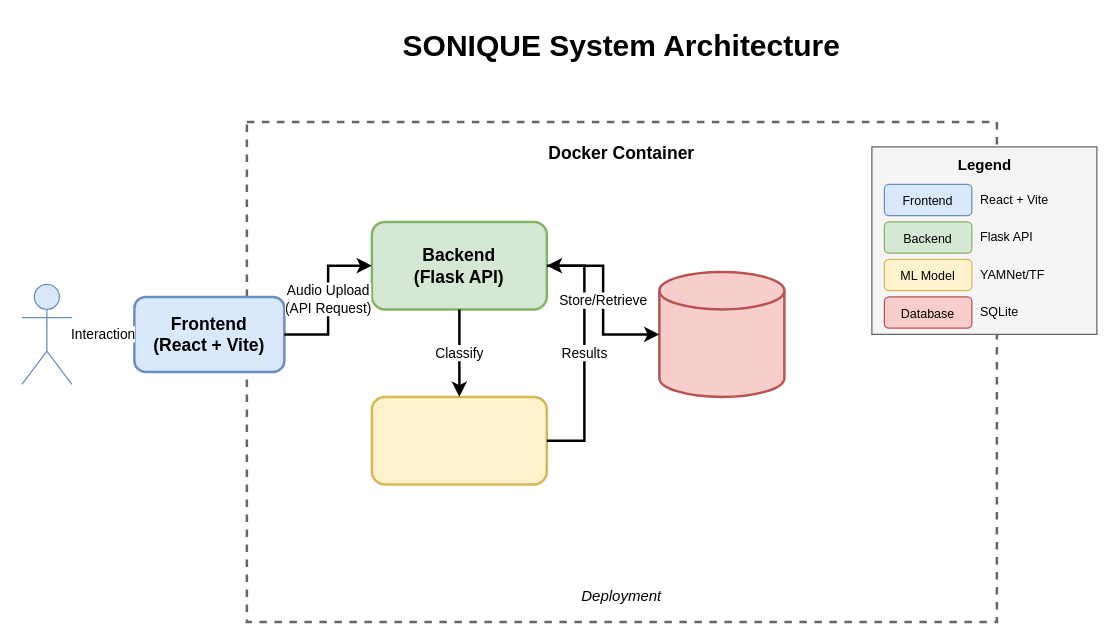
Some shapes in this 1119 by 644 pixel diagram are drawn without their labels. Each missing label, with the centre of its shape:
"SQLite Database" belongs at point (721, 334).
"User" belongs at point (46, 333).
"YAMNet ML Model (TensorFlow)" belongs at point (459, 440).
